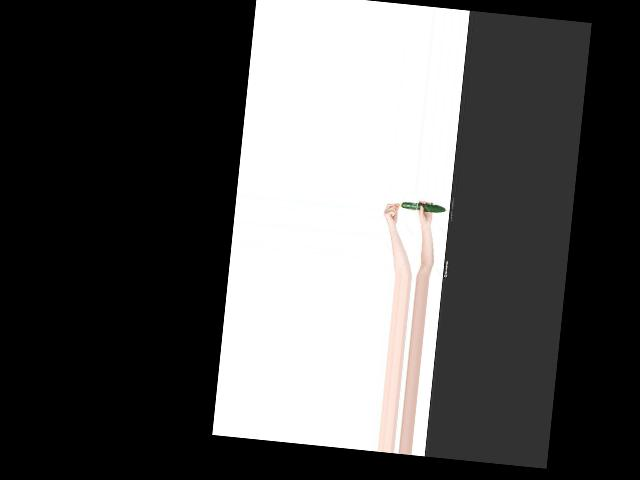cucumber: (401, 201, 447, 212)
